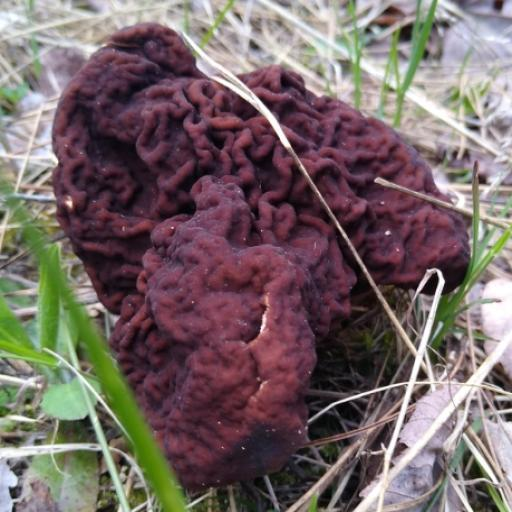mushroom: (0, 0, 425, 512)
